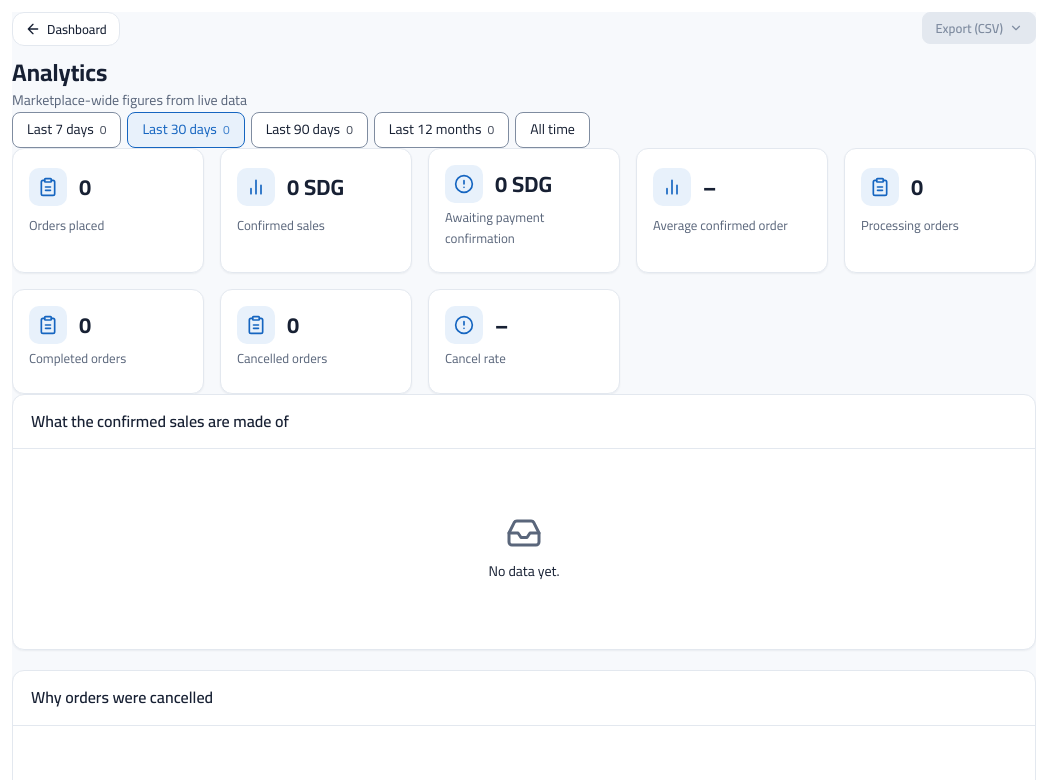
Analytics: which orders are read › reads every order only when "all time" is chosen, and says it can take a while
This screenshot has width=1048, height=780.
Expected: the text "All time reads every order, which can take a while with many orders." is not shown
Click the button "All time": (553, 130) x1=515 y1=112 x2=590 y2=148
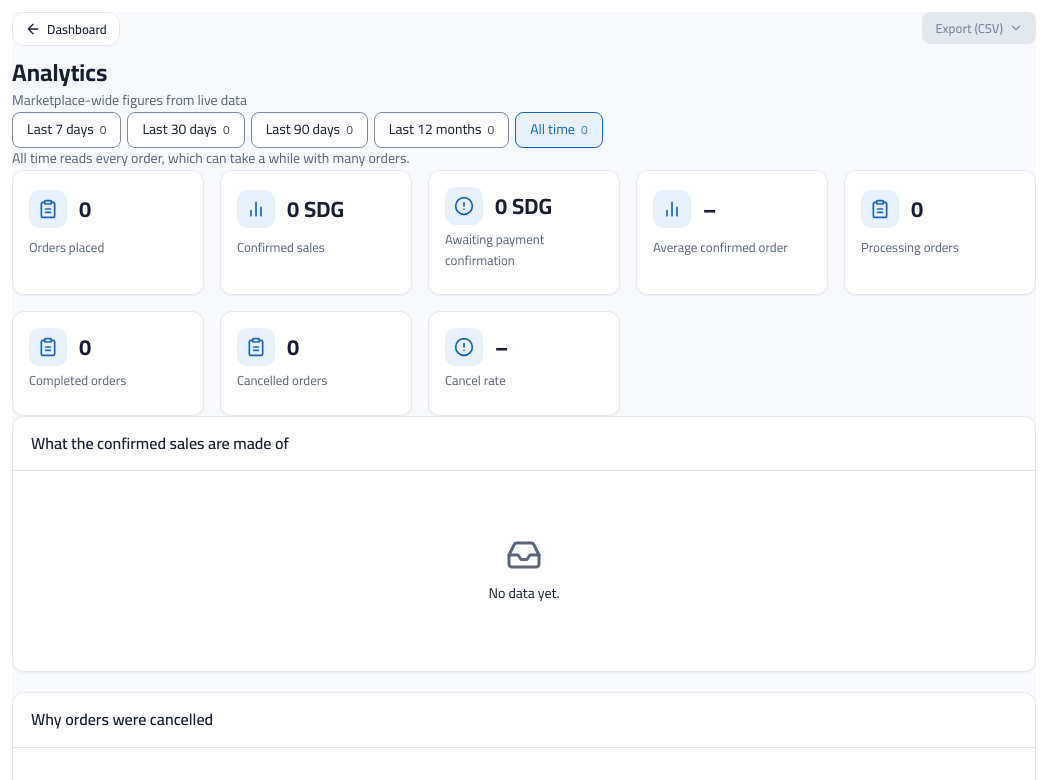
Now the text "All time reads every order, which can take a while with many orders." is shown, box x1=12 y1=146 x2=410 y2=172
